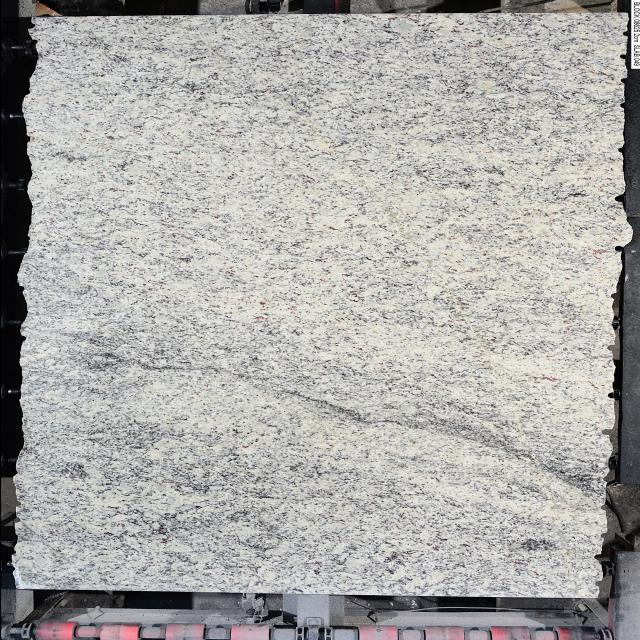chapa: (12, 14, 630, 598)
